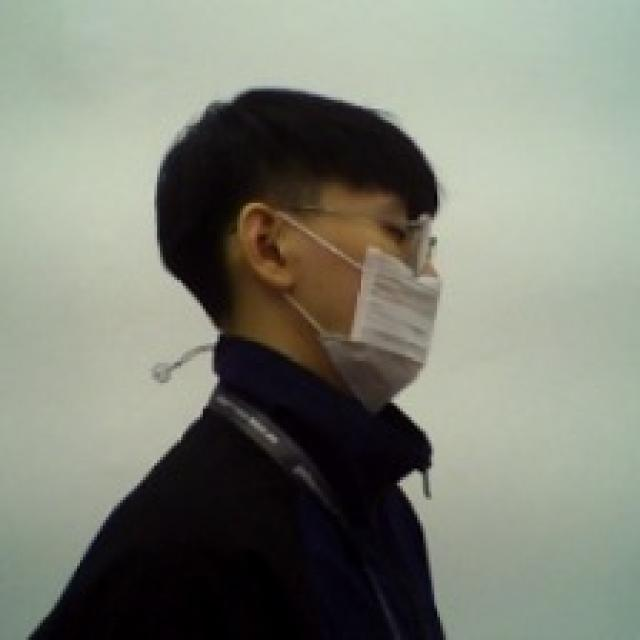mask: (237, 198, 454, 422)
no_gloves: (148, 80, 446, 327)
